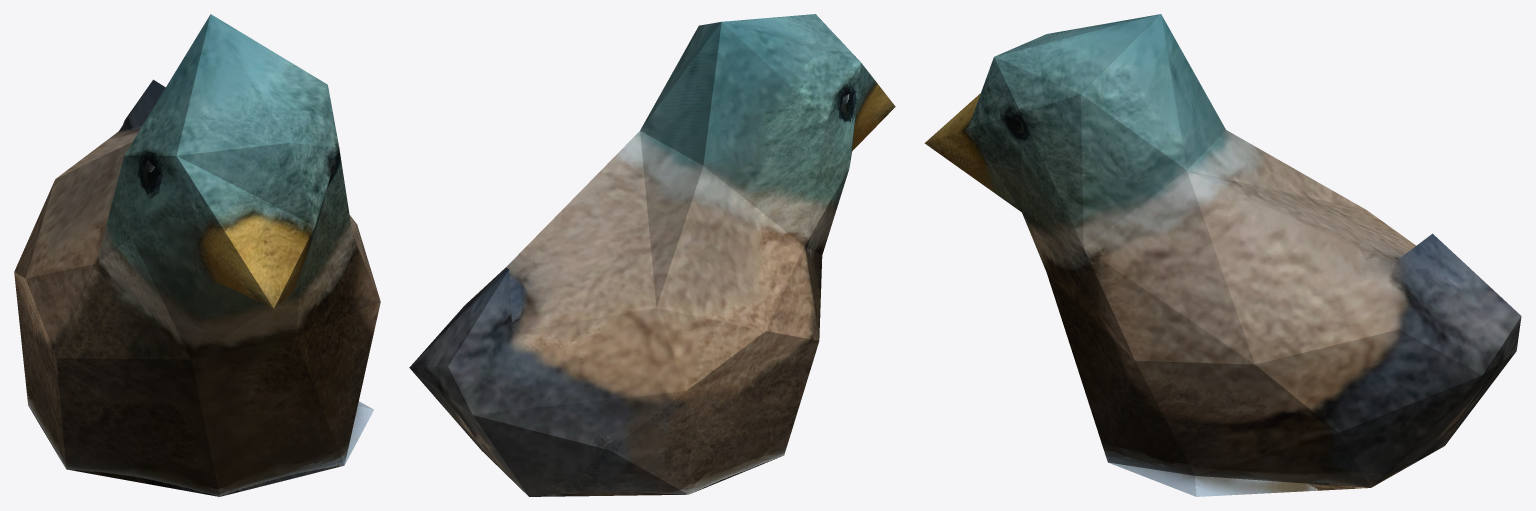
The model's file is - Uniform • 1_ • 1k.fbx.
3 views of the same model, side by side, from view 1: azimuth 30°, elevation 25°; view 2: azimuth 150°, elevation 25°; view 3: azimuth 270°, elevation 25° (orthographic). The views are drawn at different scales.
Bounding box in the file's own units: 0.117 × 0.1524 × 0.2043.
1 material, 1 textured.
